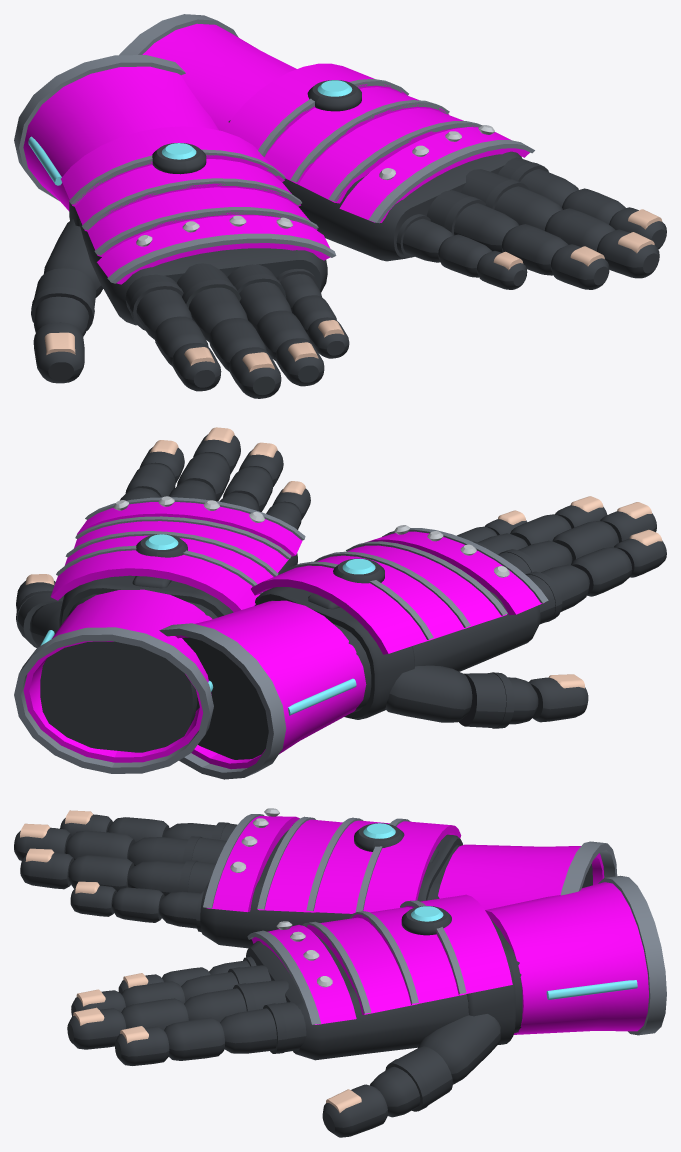
Rendered from objet_armure4_gants.glb.
The picture shows the model from 3 angles, top to bottom: view 1: azimuth 30°, elevation 25°; view 2: azimuth 150°, elevation 25°; view 3: azimuth 270°, elevation 25°; orthographic projection. The views are drawn at different scales.
Parts seen in each view (by area): view 1: main__gantelet_teinte.022, main__gantelet_teinte.021, manchette__gantelet_teinte.022, manchette__gantelet_teinte.021, main__gantelet_acier_lisere.006, main.021, main__gantelet_acier_lisere.005, main.022, pouce_2.022, annulaire_1.021, majeur_1.021, majeur_1.022 (+29 smaller); view 2: main__gantelet_teinte.022, manchette.021, main__gantelet_teinte.021, manchette__gantelet_teinte.022, main.022, manchette__gantelet_teinte.021, manchette__gantelet_acier_lisere.005, manchette.022, manchette__gantelet_acier_lisere.006, main__gantelet_acier_lisere.005, pouce_1.022, main__gantelet_acier_lisere.006 (+30 smaller); view 3: manchette__gantelet_teinte.021, main__gantelet_teinte.021, main__gantelet_teinte.022, main.021, manchette__gantelet_teinte.022, main.022, main__gantelet_acier_lisere.005, pouce_2.021, index_1.021, main__gantelet_acier_lisere.006, pouce_1.021, manchette__gantelet_acier_lisere.005 (+29 smaller).
Boxes of the visible parts, x1=… form: main__gantelet_teinte.022: x1=61, y1=126, x2=330, y2=284; main__gantelet_teinte.021: x1=223, y1=63, x2=529, y2=222; manchette__gantelet_teinte.022: x1=23, y1=66, x2=218, y2=211; manchette__gantelet_teinte.021: x1=142, y1=23, x2=296, y2=131; main__gantelet_acier_lisere.006: x1=69, y1=149, x2=336, y2=283; main.021: x1=228, y1=120, x2=522, y2=261; main__gantelet_acier_lisere.005: x1=258, y1=79, x2=534, y2=223; main.022: x1=69, y1=202, x2=327, y2=325; pouce_2.022: x1=31, y1=268, x2=96, y2=336; annulaire_1.021: x1=426, y1=190, x2=518, y2=252; majeur_1.021: x1=461, y1=169, x2=562, y2=230; majeur_1.022: x1=177, y1=263, x2=247, y2=342; main__gantelet_teinte.022: x1=251, y1=531, x2=544, y2=654; manchette.021: x1=40, y1=641, x2=197, y2=752; main__gantelet_teinte.021: x1=50, y1=502, x2=302, y2=612; manchette__gantelet_teinte.022: x1=175, y1=600, x2=366, y2=769; main.022: x1=254, y1=587, x2=540, y2=719; manchette__gantelet_teinte.021: x1=23, y1=589, x2=212, y2=762; manchette__gantelet_acier_lisere.005: x1=14, y1=627, x2=213, y2=773; manchette.022: x1=182, y1=637, x2=268, y2=759; manchette__gantelet_acier_lisere.006: x1=159, y1=623, x2=286, y2=779; main__gantelet_acier_lisere.005: x1=56, y1=497, x2=305, y2=594; pouce_1.022: x1=385, y1=665, x2=472, y2=722; main__gantelet_acier_lisere.006: x1=279, y1=528, x2=548, y2=639; manchette__gantelet_teinte.021: x1=485, y1=882, x2=648, y2=1034; main__gantelet_teinte.021: x1=251, y1=894, x2=512, y2=1024; main__gantelet_teinte.022: x1=207, y1=816, x2=461, y2=913; main.021: x1=246, y1=930, x2=522, y2=1060; manchette__gantelet_teinte.022: x1=438, y1=844, x2=604, y2=909; main.022: x1=200, y1=823, x2=462, y2=948; main__gantelet_acier_lisere.005: x1=247, y1=900, x2=466, y2=1024; pouce_2.021: x1=370, y1=1046, x2=452, y2=1117; index_1.021: x1=220, y1=1002, x2=306, y2=1053; main__gantelet_acier_lisere.006: x1=203, y1=814, x2=410, y2=912; pouce_1.021: x1=418, y1=1014, x2=500, y2=1084; manchette__gantelet_acier_lisere.005: x1=598, y1=875, x2=666, y2=1035.
Bounding box in the file's own units: 0.3286 × 0.0856 × 0.3517.
